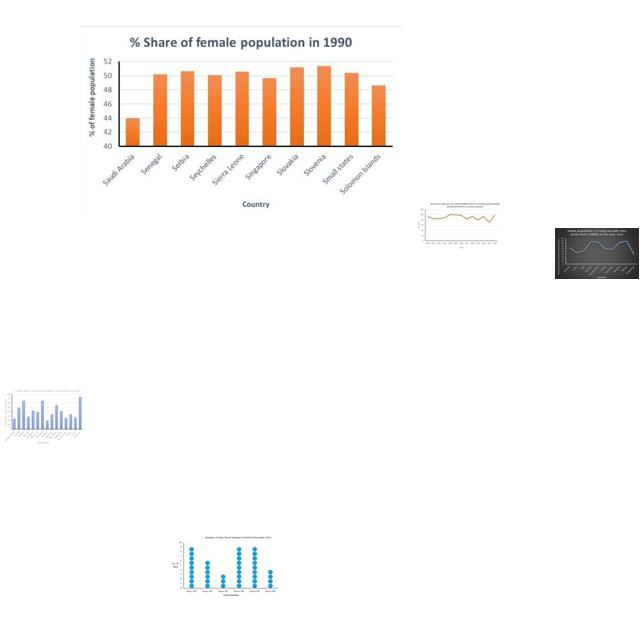Graph: (80, 26, 402, 219), (171, 535, 278, 598), (3, 389, 84, 446), (415, 201, 502, 251), (555, 228, 639, 279)
